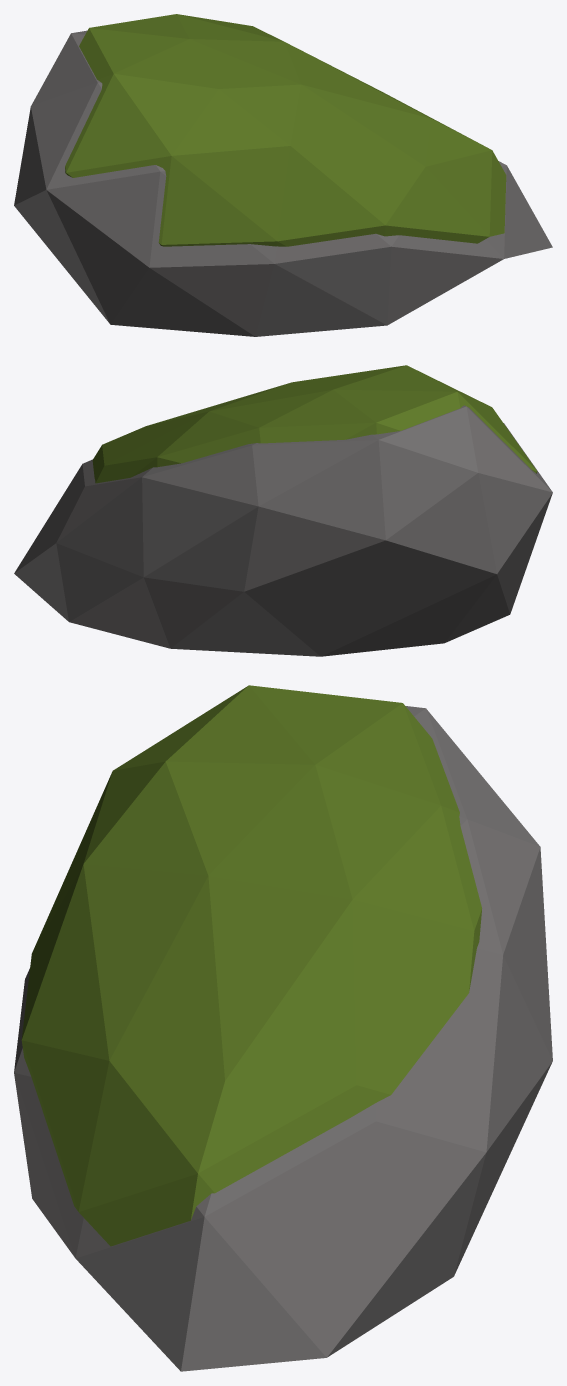
File: MossyRock_1.fbx
3 renders of one model, top to bottom at view 1: azimuth 30°, elevation 25°; view 2: azimuth 150°, elevation 25°; view 3: azimuth 270°, elevation 25°, orthographic. The views are drawn at different scales.
Visible parts, largest first — view 1: pSolid42; view 2: pSolid42; view 3: pSolid42.
Boxes of the visible parts, box(x1,y1,x2,y2) form: pSolid42: box(14, 14, 552, 336); pSolid42: box(14, 365, 552, 656); pSolid42: box(14, 685, 552, 1371).
Bounding box in the file's own units: 3.26 × 1.63 × 2.06.
